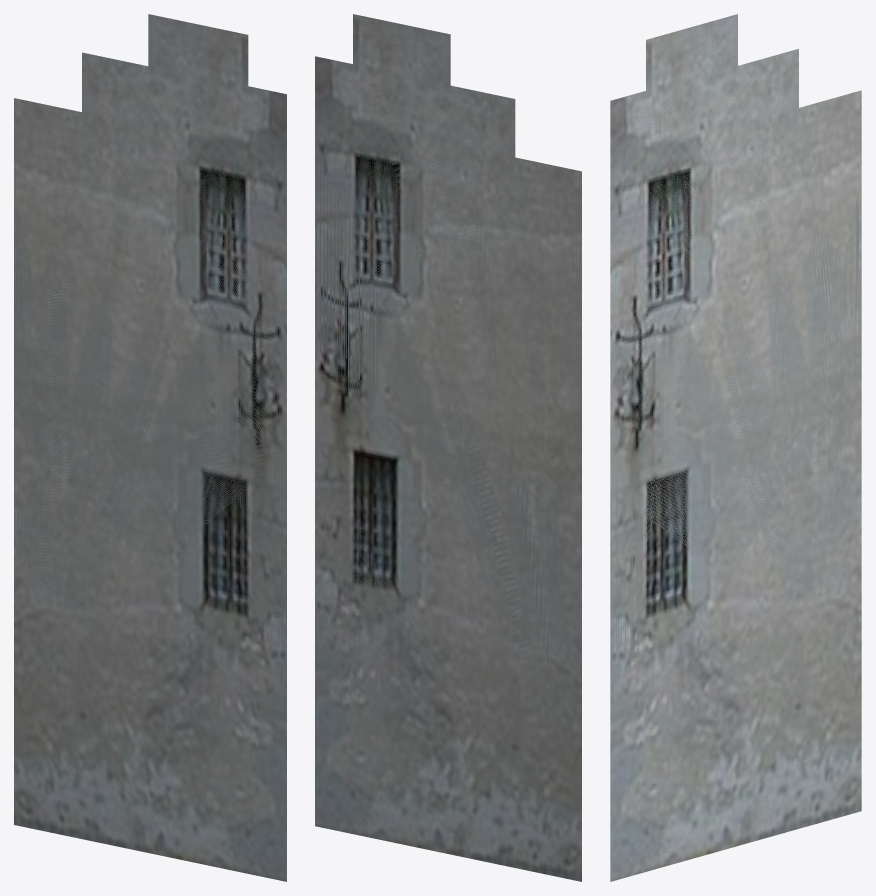
The model's file is 西庸城堡212.dae.
The picture shows the model from 3 angles, left to right: view 1: azimuth 30°, elevation 25°; view 2: azimuth 210°, elevation 25°; view 3: azimuth 270°, elevation 25°; orthographic projection. The views are drawn at different scales.
Visible parts, largest first — view 1: SketchUp; view 2: SketchUp; view 3: SketchUp.
Part boxes in pixels (bbox=[...]): SketchUp: bbox=[14, 14, 286, 881]; SketchUp: bbox=[315, 14, 581, 881]; SketchUp: bbox=[610, 14, 861, 881].
Size of the model in its own units: 140 by 210 by 769.
Materials: 2 (1 with a texture image).
